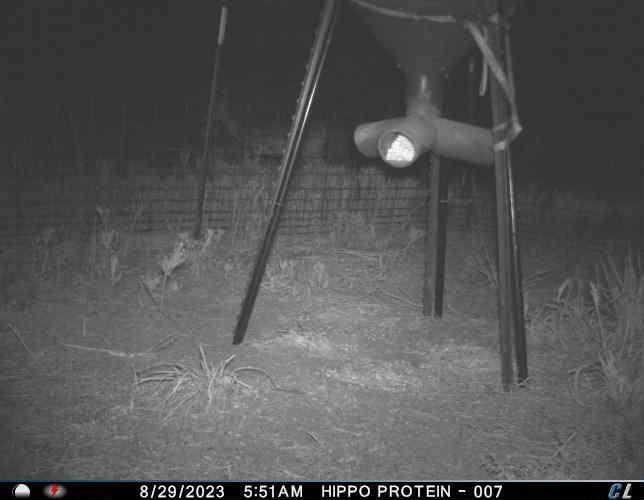Deer: (207, 89, 333, 176)
